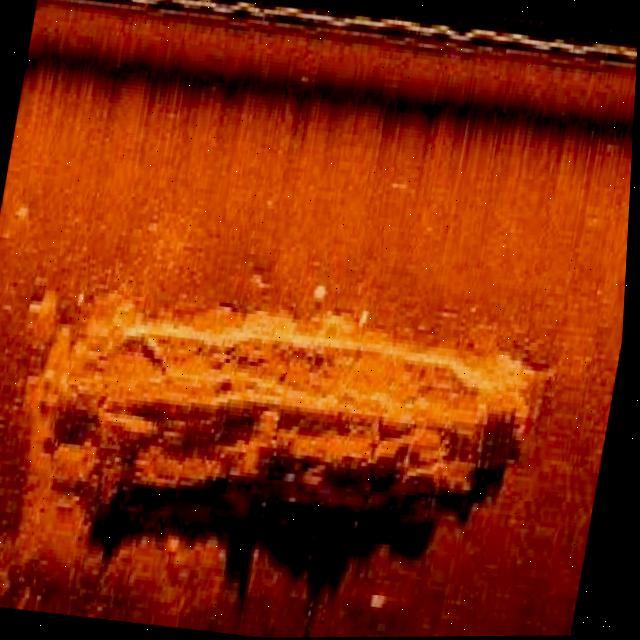shipwreck: (33, 293, 559, 548)
